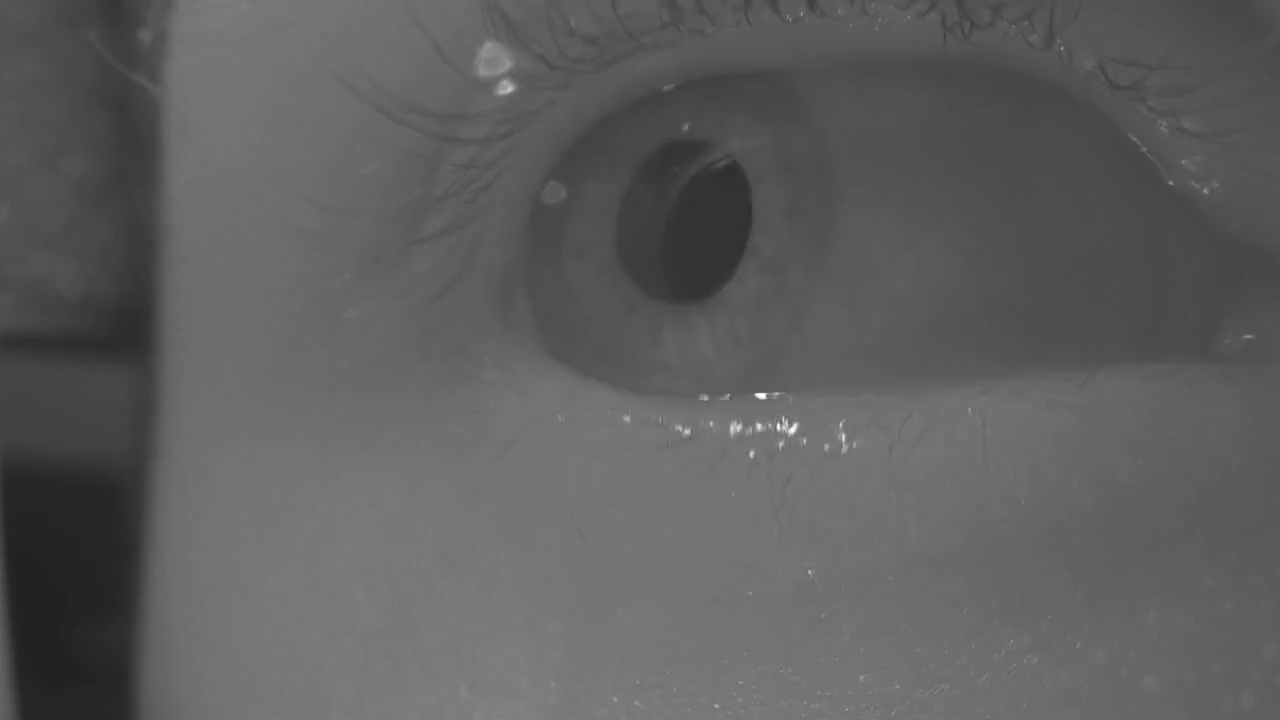pupil: (615, 141, 753, 303)
